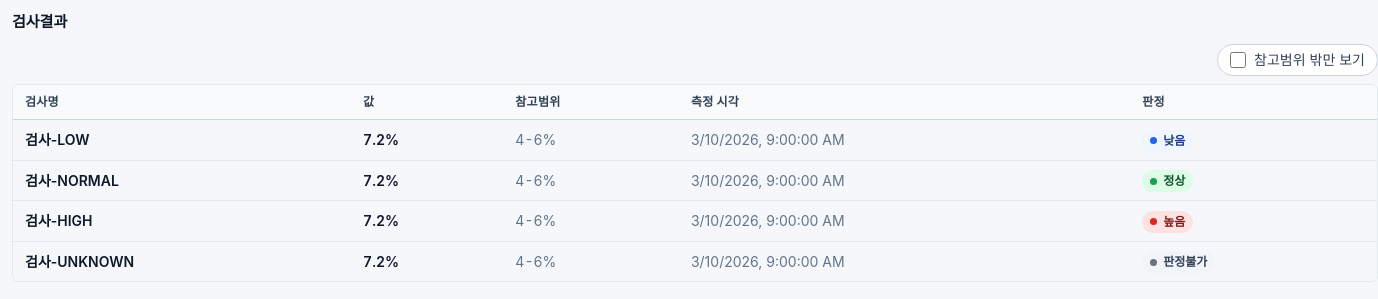
Scenario: LabResultsTableSection out-of-range filter › shows every status again after unchecking the filter
Click the checkbox labelled "참고범위 밖만 보기": (1238, 60) [1230,52,1246,68]
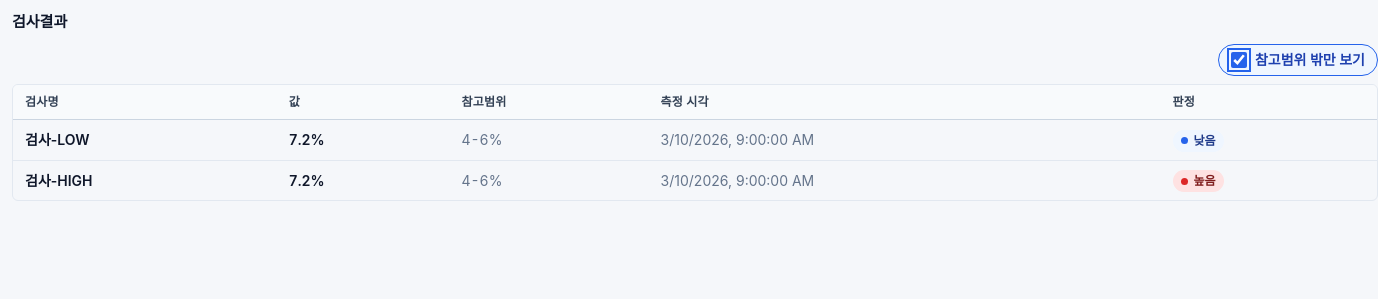
Click the checkbox labelled "참고범위 밖만 보기": (1239, 60) [1231,52,1247,68]
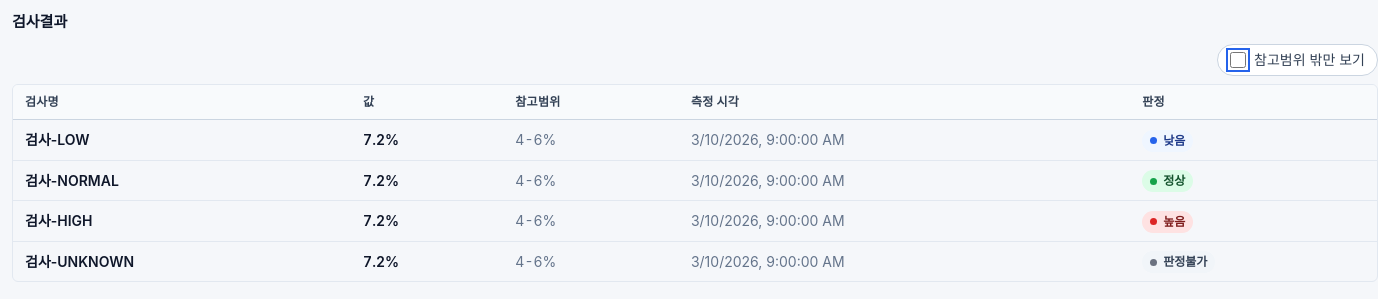
Result: the text "검사-NORMAL" is shown at [13,160,351,201]
Result: the text "검사-UNKNOWN" is shown at [13,241,351,281]
